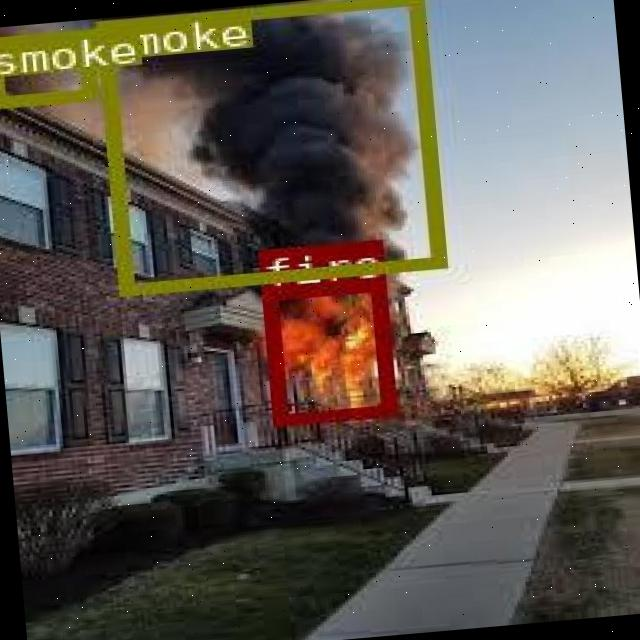fire: (260, 278, 392, 424)
smoke: (93, 0, 442, 292), (0, 28, 94, 105)
